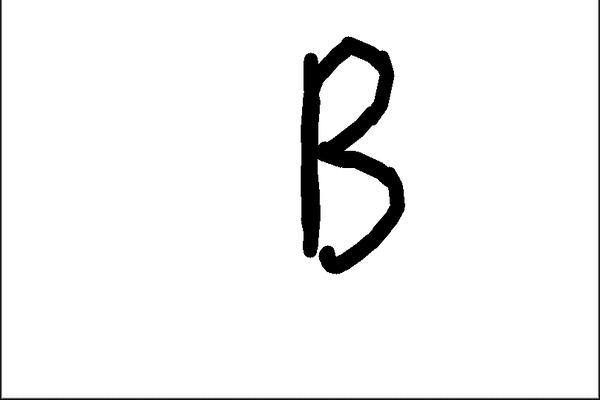B: (287, 26, 412, 282)
